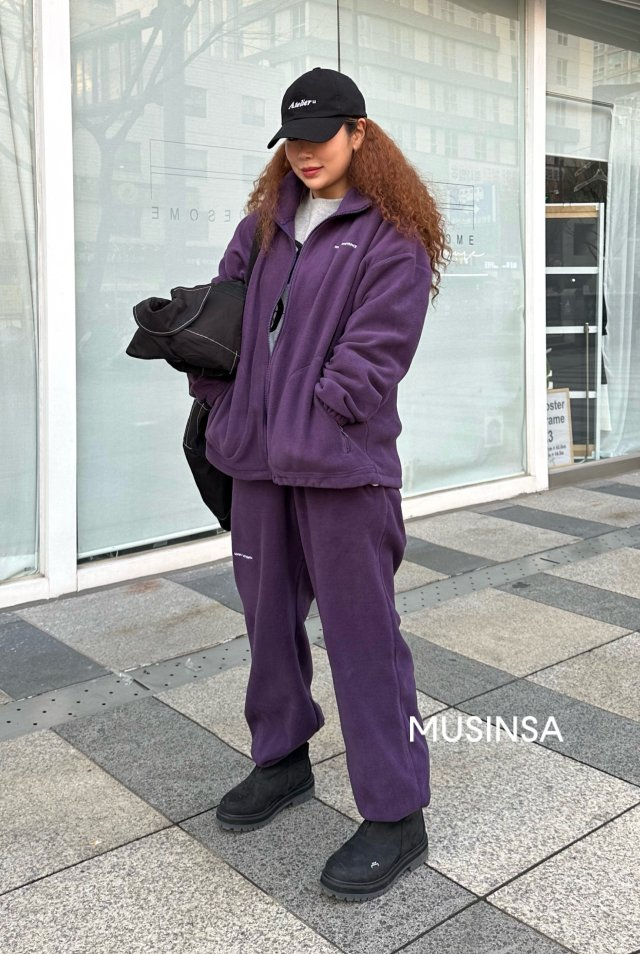Cap: (264, 66, 366, 145)
Outer: (198, 182, 422, 497)
Shoes: (204, 746, 443, 902)
Training pants: (216, 459, 436, 828)
